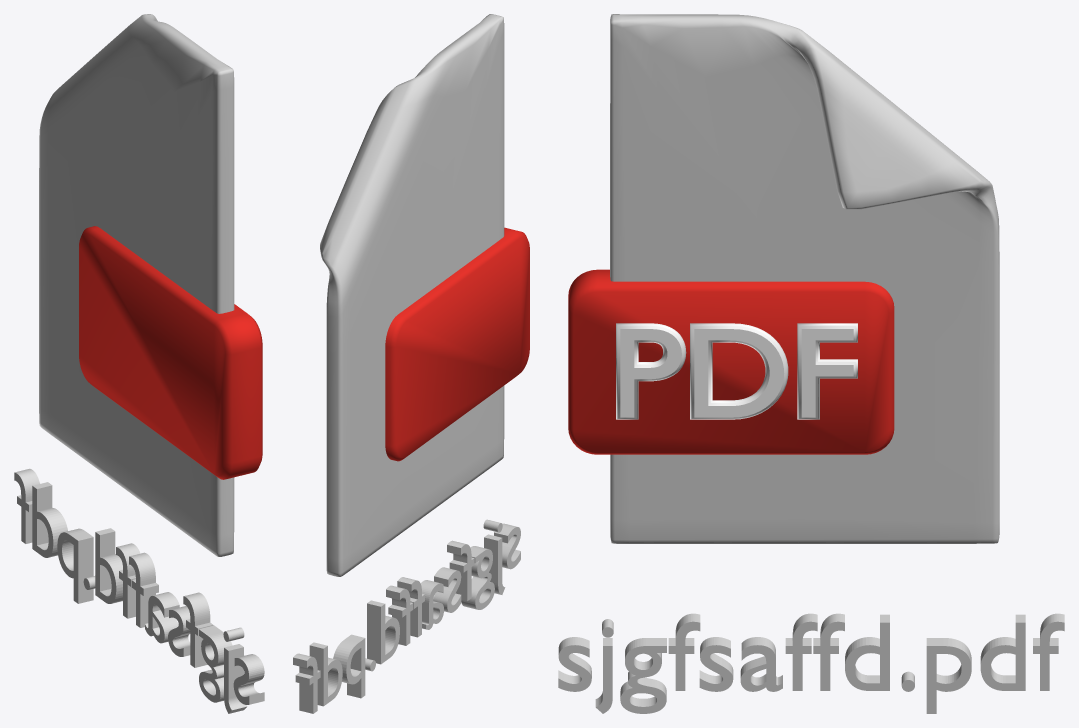
The model's file is KnittingPDF2.fbx.
3 views of the same model, side by side, from view 1: azimuth 30°, elevation 25°; view 2: azimuth 150°, elevation 25°; view 3: azimuth 270°, elevation 25° (orthographic). The views are drawn at different scales.
Visible parts, largest first — view 1: PDFName.001; view 2: PDFName.001; view 3: PDFName.001.
Boxes of the visible parts, left/top/right/bottom form: PDFName.001: left=14, top=14, right=264, bottom=713; PDFName.001: left=293, top=14, right=529, bottom=713; PDFName.001: left=558, top=14, right=1064, bottom=713.
Size of the model in its own units: 59.34 by 303 by 455.
